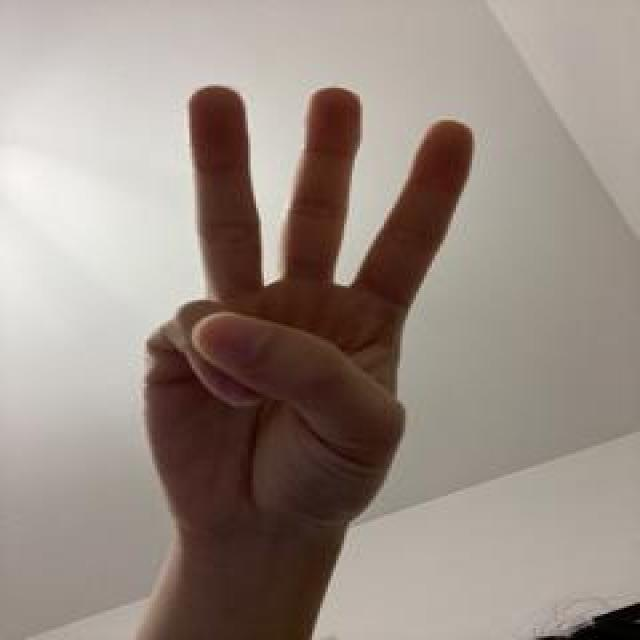W: (136, 44, 483, 564)
